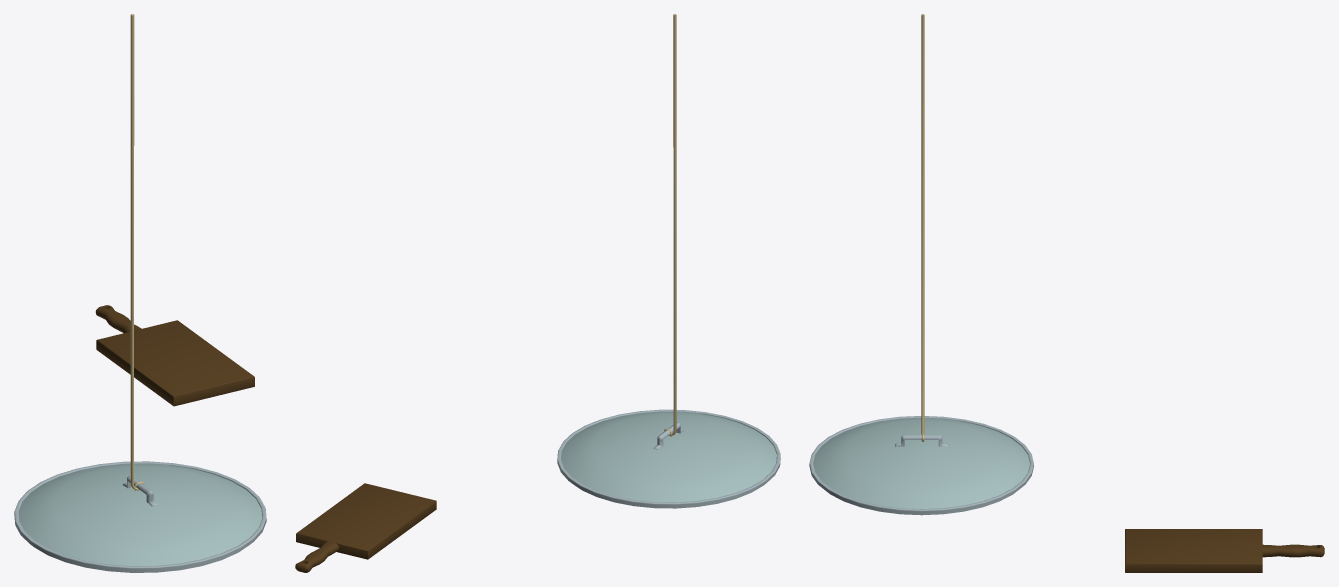
The picture shows the model from 3 angles, left to right: view 1: azimuth 30°, elevation 25°; view 2: azimuth 150°, elevation 25°; view 3: azimuth 270°, elevation 25°; orthographic projection. The views are drawn at different scales.
Parts seen in each view (by area): view 1: Cylinder.003, Cube.014; view 2: Cylinder.003, Cube.014; view 3: Cylinder.003, Cube.014.
Boxes of the visible parts, x1=… form: Cylinder.003: x1=14, y1=14, x2=266, y2=572; Cube.014: x1=95, y1=305, x2=254, y2=406; Cylinder.003: x1=557, y1=14, x2=780, y2=508; Cube.014: x1=295, y1=483, x2=436, y2=572; Cylinder.003: x1=809, y1=14, x2=1033, y2=515; Cube.014: x1=1125, y1=529, x2=1324, y2=572.
Bounding box in the file's own units: 464 × 673 × 688.
